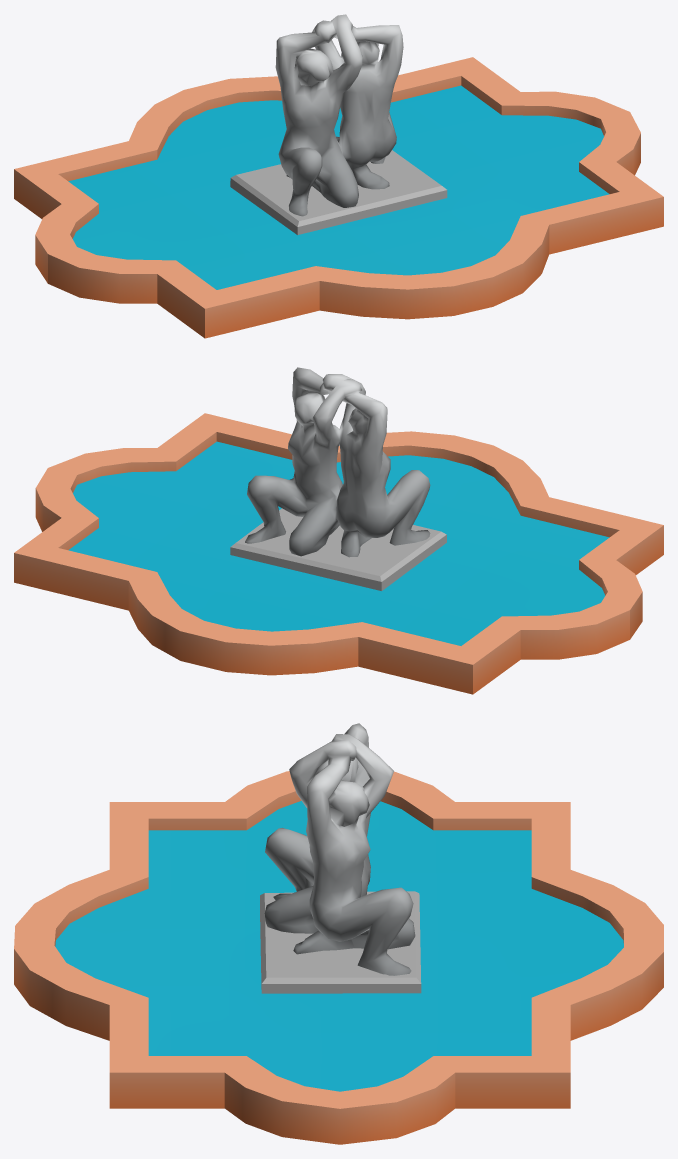
File: fountain_002.glb
3 renders of one model, top to bottom at view 1: azimuth 30°, elevation 25°; view 2: azimuth 150°, elevation 25°; view 3: azimuth 270°, elevation 25°, orthographic. The views are drawn at different scales.
Visible parts, largest first — view 1: fountain_002; view 2: fountain_002; view 3: fountain_002.
Part boxes in pixels (left/top/right/bottom): fountain_002: left=14, top=14, right=663, bottom=338; fountain_002: left=14, top=367, right=663, bottom=694; fountain_002: left=14, top=723, right=663, bottom=1144.
Bounding box in the file's own units: 10.82 × 3.44 × 8.66.
2 materials, 2 textured.
